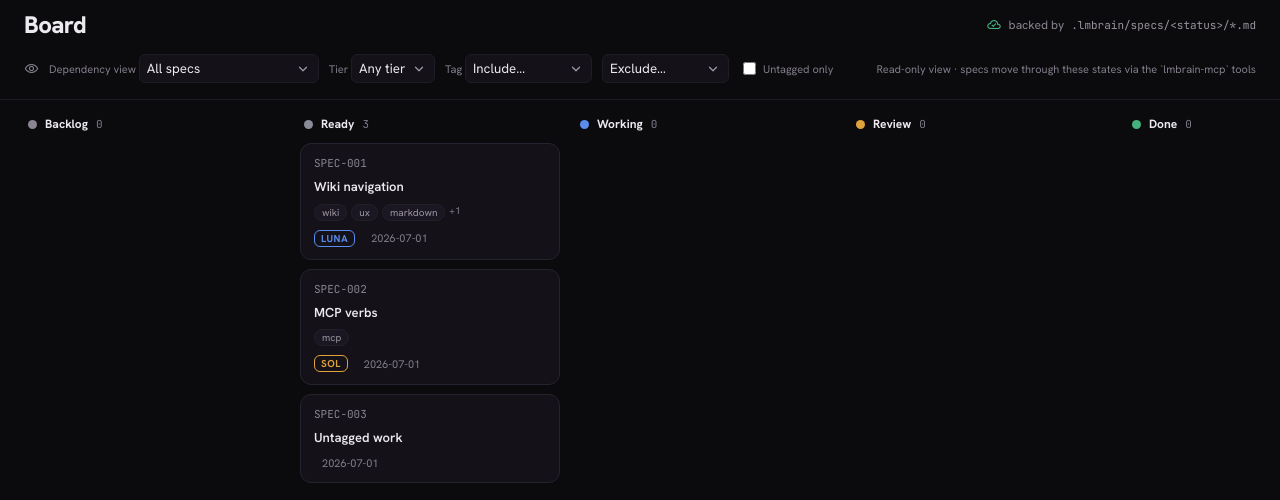
Test: Board tags and effort tiers › filters by an included tag and reports shown over total
The width and height of the screenshot is (1280, 500).
expect the text "Wiki navigation" is shown: met, box [314, 178, 404, 196]
expect the text "MCP verbs" is shown: met, box [314, 304, 378, 321]
Select "wiki" in the dropdown named "Add tag filter". click: (528,68)
box: [465, 54, 592, 83]
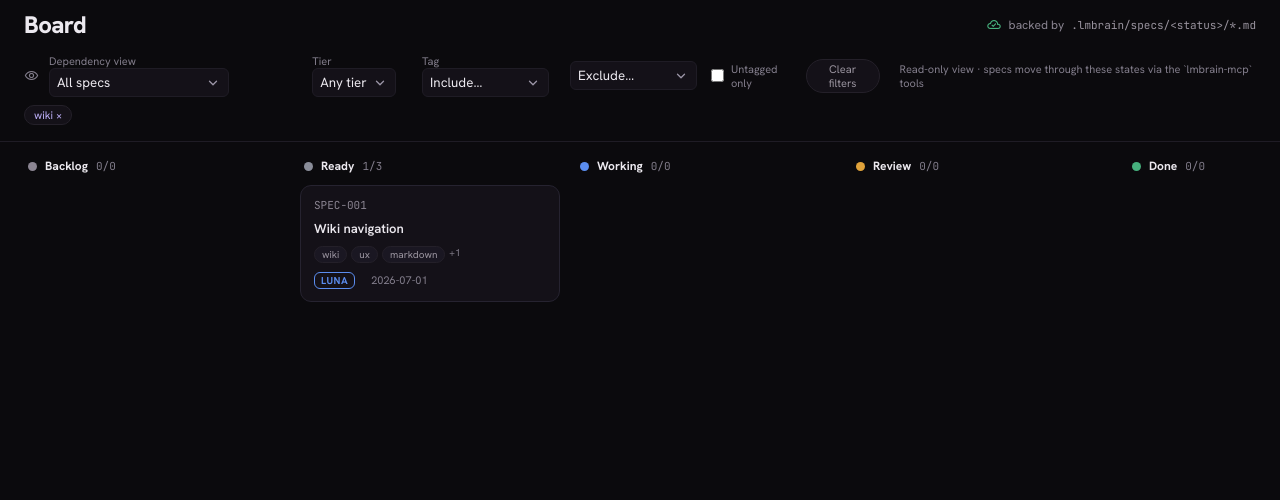
expect the text "Wiki navigation" is shown: met, box [314, 220, 404, 238]
expect the button "MCP verbs" is gone: met
expect the text "1/3" is shown: met, box [362, 159, 382, 173]
